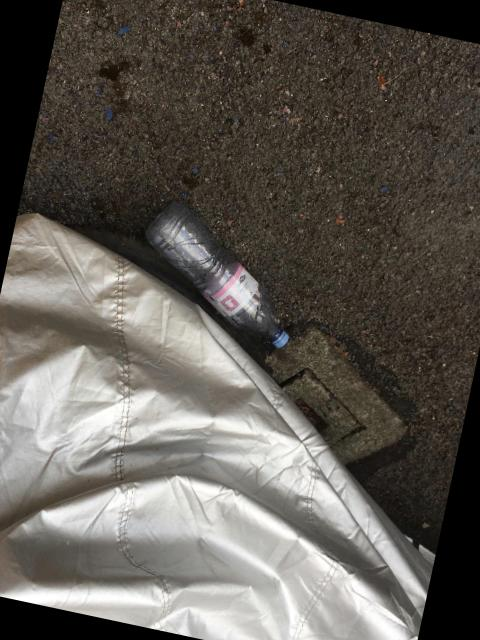plastic: (146, 203, 289, 348)
